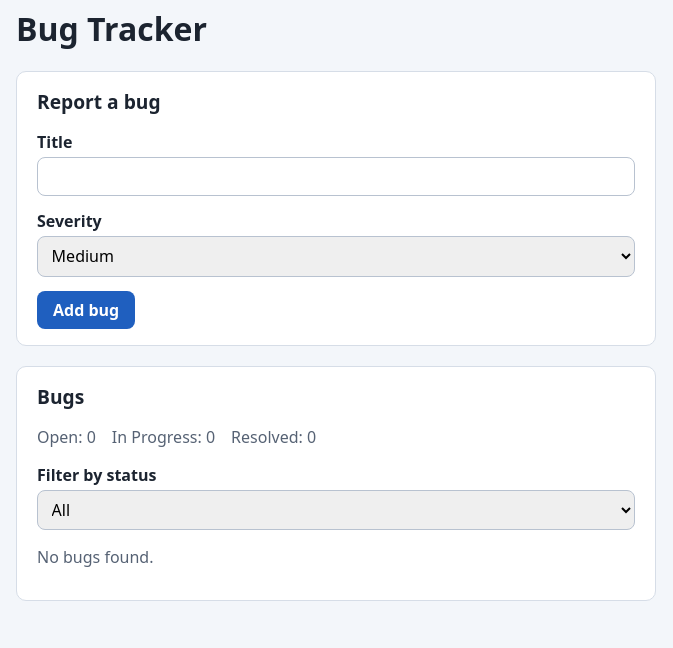
Test: Bug Tracker › rejects a title that is too short
Type "ab" into the field labelled "Title" at (336, 177), box [37,157,635,196]
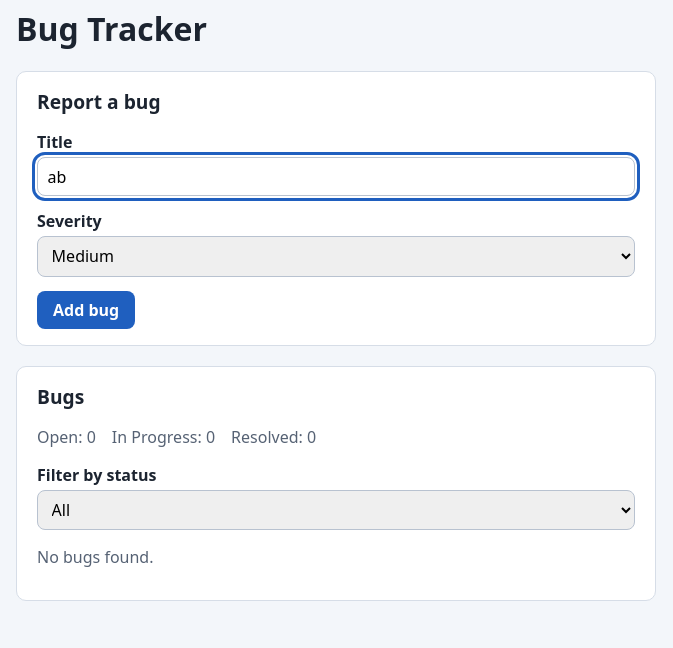
Click the button "Add bug" at (86, 310), box [37,291,135,329]
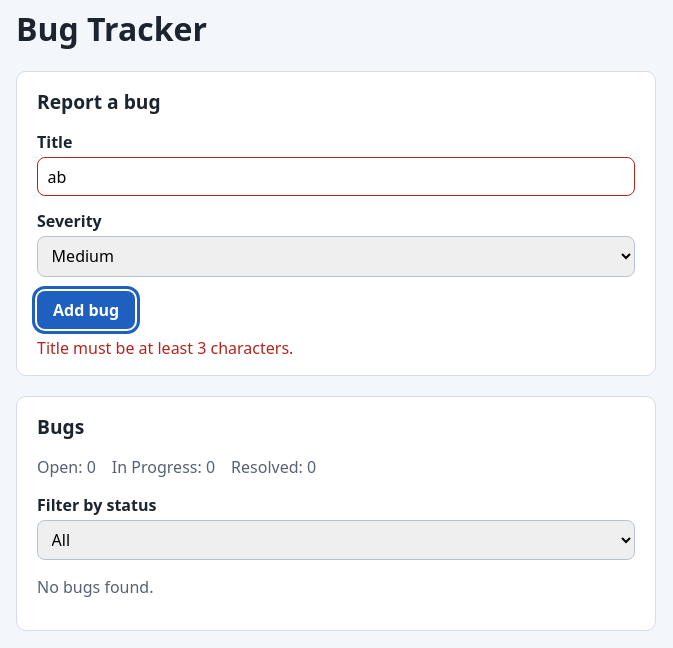
Expected: the text "No bugs found." is shown, [37,576,154,598]
Expected: the message shows "at least 3 characters", [37,337,293,359]
